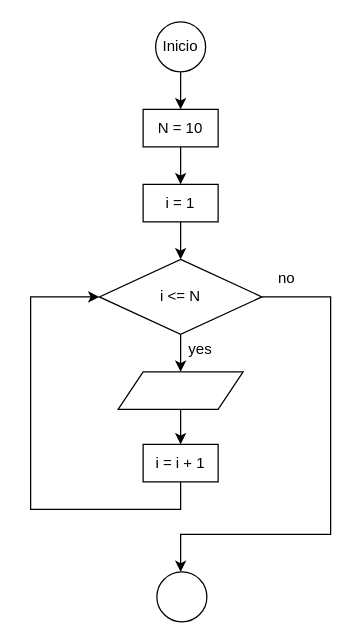
The diagram is 363 pixels wide and 644 high, and some of its shapes have lost their labels. Here are the shapes that lost their labels. From the top down, the centre of each, then its label:
point (180, 390): Escribir(i)
point (181, 596): Fin
